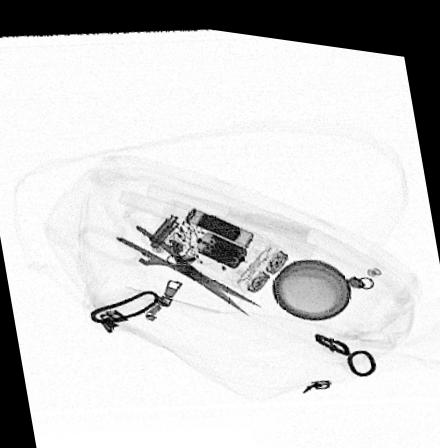Scissors: (75, 190, 263, 310)
